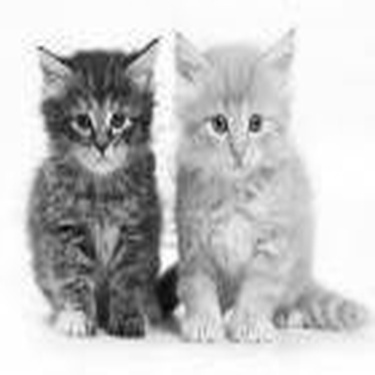cat: (33, 36, 163, 352), (175, 28, 304, 342)
